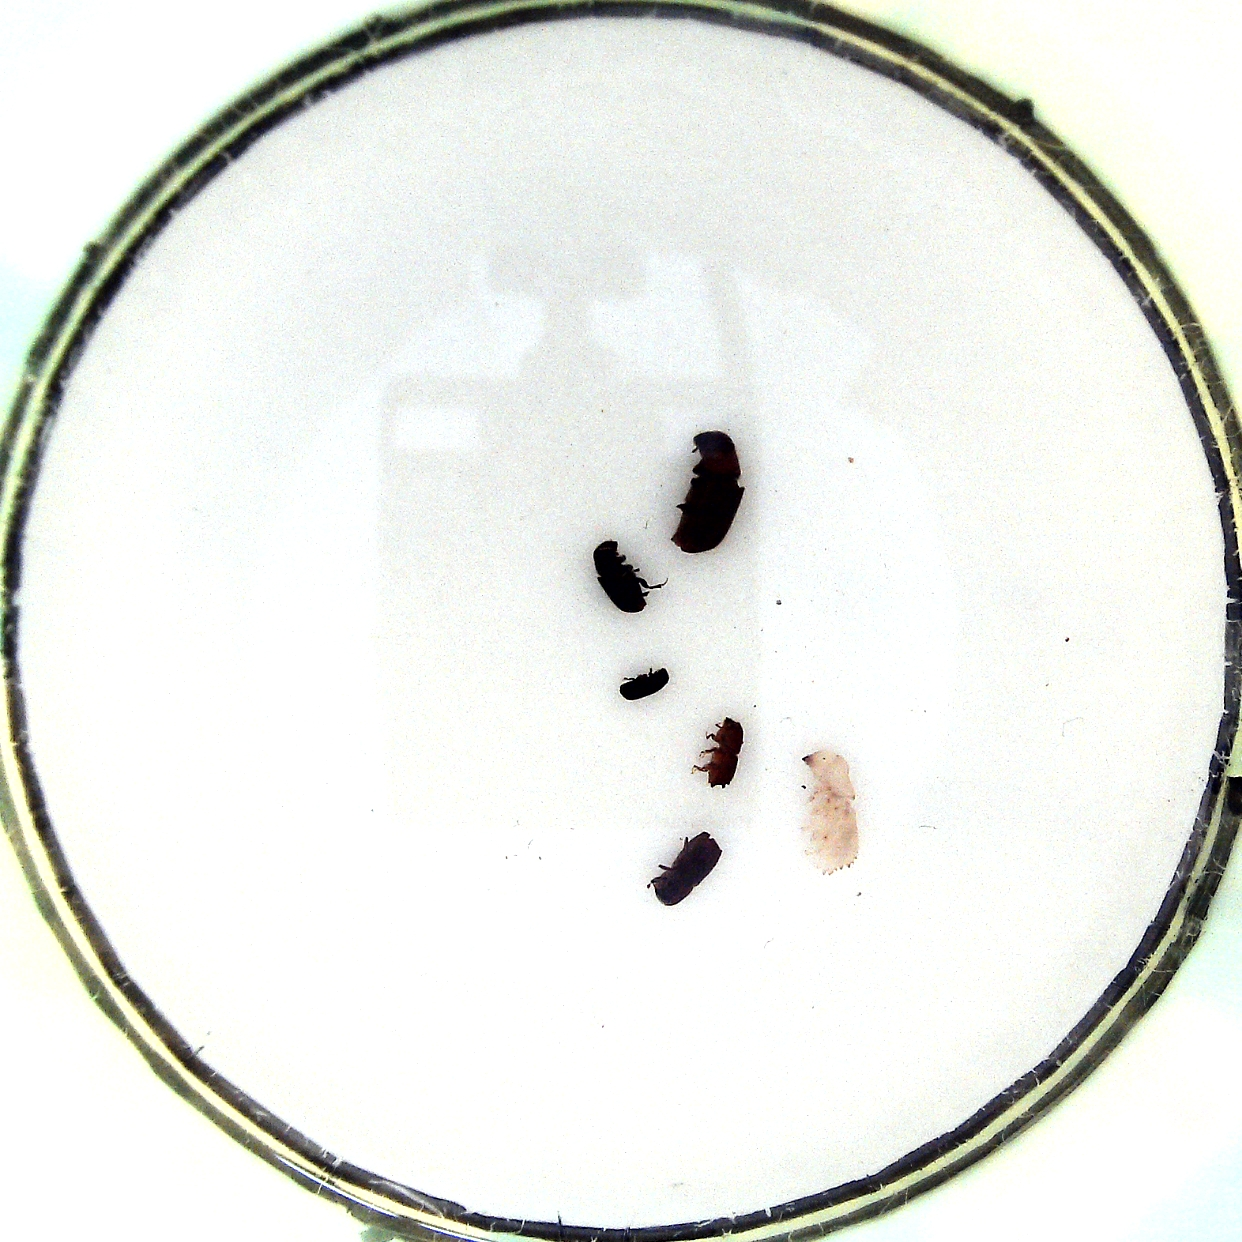Boerner: (792, 742, 866, 877)
Leconte: (664, 428, 750, 555)
Linnaeus: (646, 826, 730, 908)
acuminatus: (692, 711, 751, 795)
armandi: (591, 541, 659, 618)
coleoptera: (620, 662, 672, 703)
